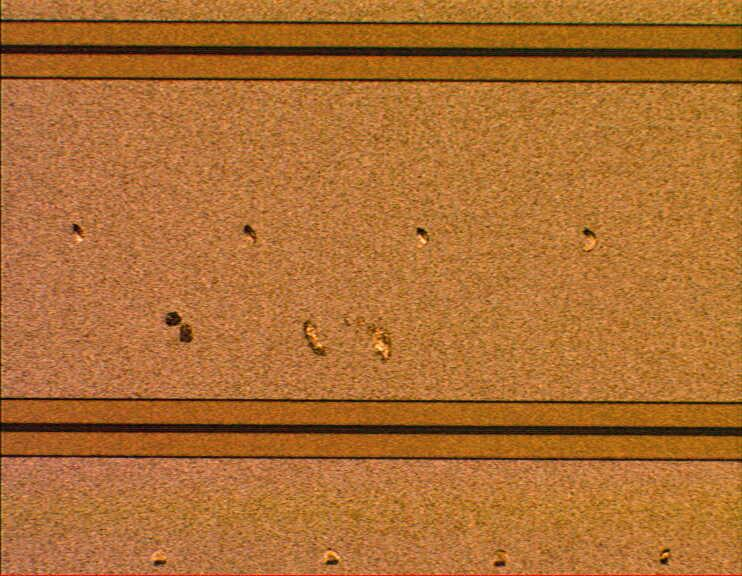SCRATCH: (276, 309, 422, 368)
